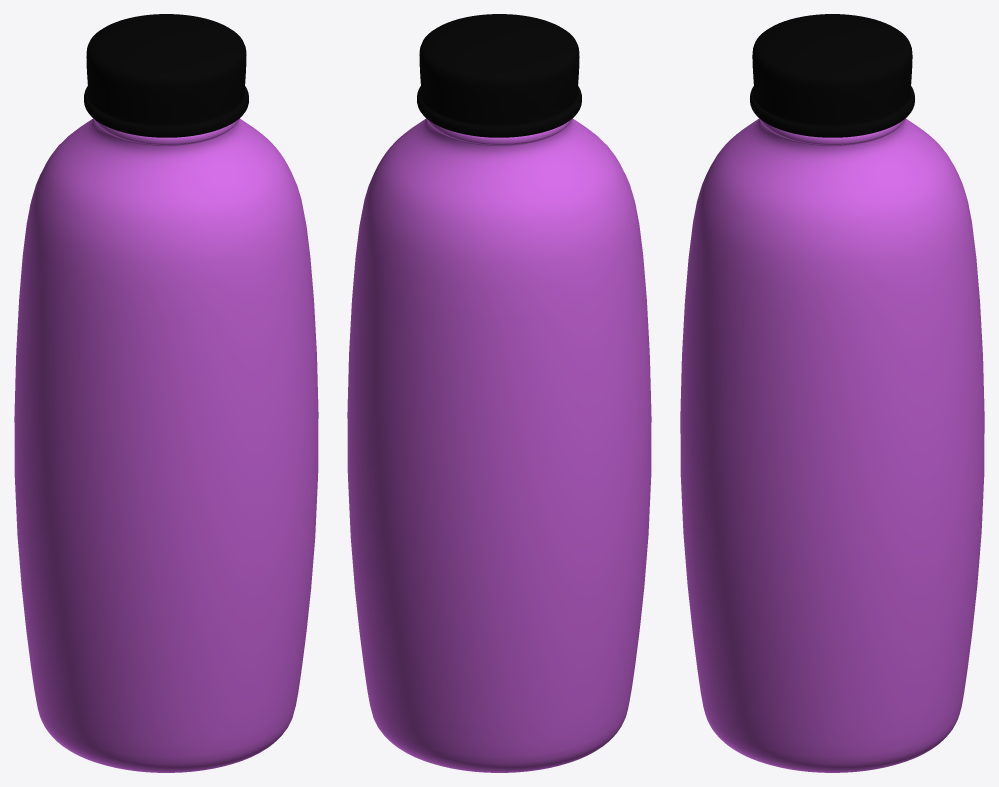
The model's file is botella_v01.fbx.
3 renders of one model, left to right at view 1: azimuth 30°, elevation 25°; view 2: azimuth 150°, elevation 25°; view 3: azimuth 270°, elevation 25°, orthographic.
Visible parts, largest first — view 1: botella; view 2: botella; view 3: botella.
Boxes of the visible parts, <box> form: botella: <box>14,14,318,772</box>; botella: <box>347,14,651,772</box>; botella: <box>680,14,984,772</box>.
Size of the model in its own units: 9.88 by 24.72 by 9.88.
